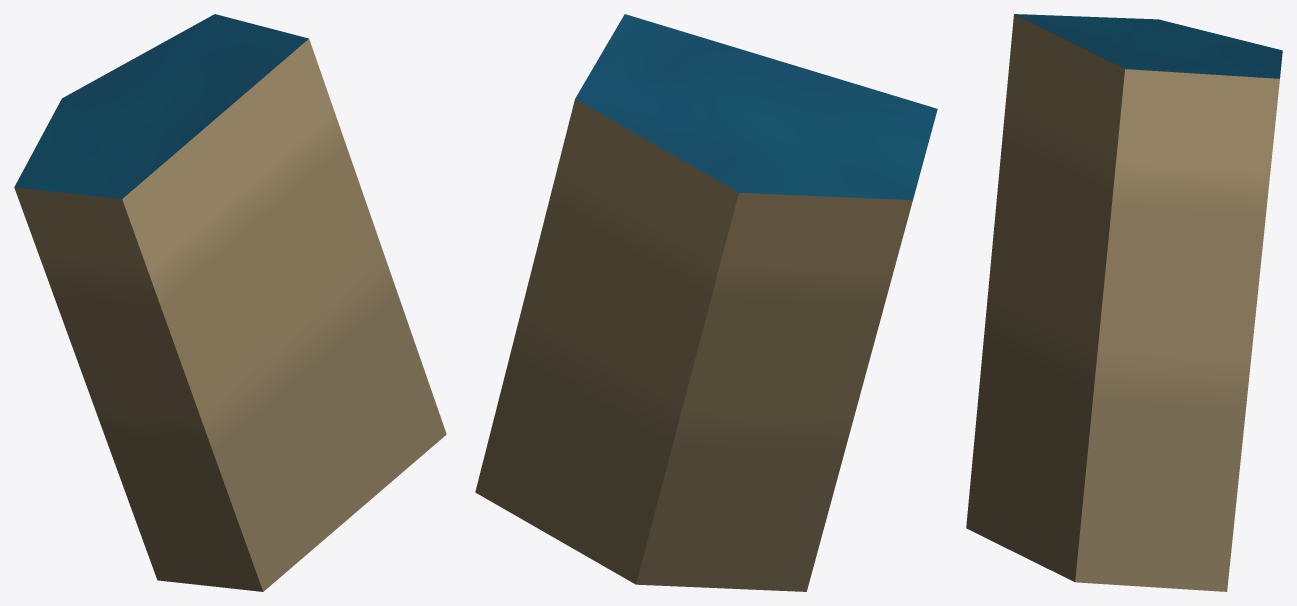
File: 060b_Marshall_Islands.glb
The picture shows the model from 3 angles, left to right: view 1: azimuth 30°, elevation 25°; view 2: azimuth 150°, elevation 25°; view 3: azimuth 270°, elevation 25°; orthographic projection. The views are drawn at different scales.
Parts seen in each view (by area): view 1: part_0; view 2: part_0; view 3: part_0.
Boxes of the visible parts, left/top/right/bottom form: part_0: left=14, top=14, right=446, bottom=591; part_0: left=475, top=14, right=937, bottom=591; part_0: left=966, top=14, right=1282, bottom=591.
Size of the model in its own units: 0.1936 by 0.233 by 0.1215.
Materials: 1 (1 with a texture image).
